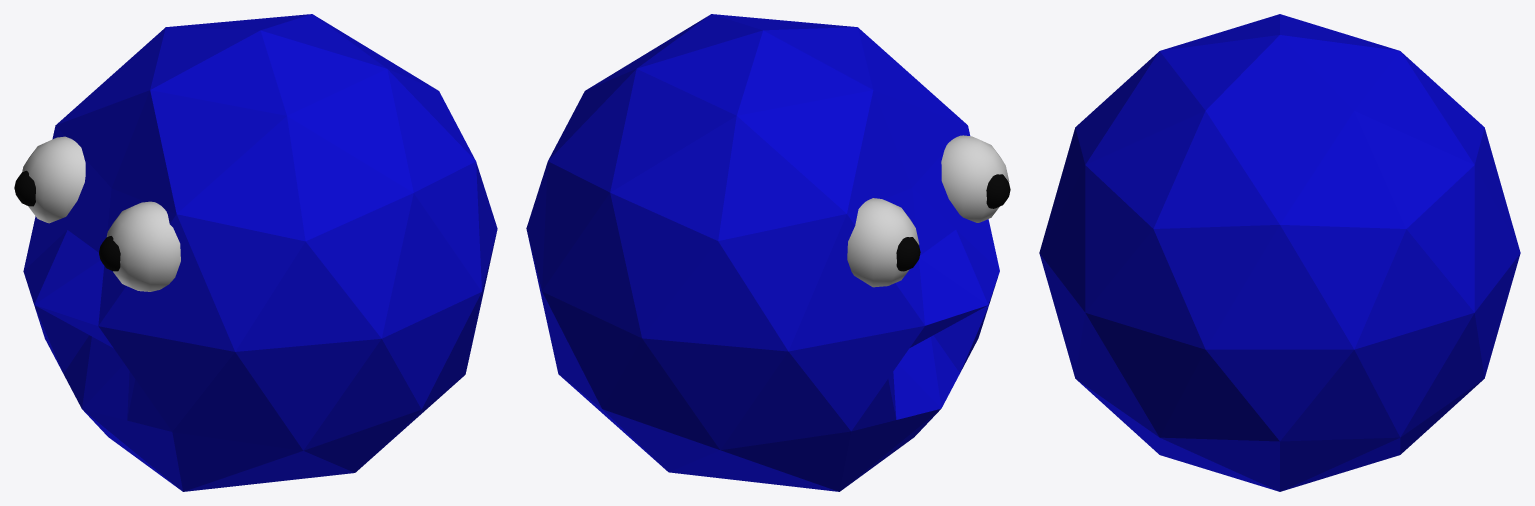
File: tiny.obj
3 renders of one model, left to right at view 1: azimuth 30°, elevation 25°; view 2: azimuth 150°, elevation 25°; view 3: azimuth 270°, elevation 25°, orthographic.
Parts seen in each view (by area): view 1: Icosphere, Sphere.002, Sphere, Sphere.003, Sphere.001; view 2: Icosphere, Sphere, Sphere.002, Sphere.003, Sphere.001; view 3: Icosphere.
Boxes of the visible parts, <box> form: Icosphere: <box>23,14,497,491</box>; Sphere.002: <box>106,201,180,291</box>; Sphere: <box>22,136,85,223</box>; Sphere.003: <box>99,236,120,271</box>; Sphere.001: <box>14,170,35,206</box>; Icosphere: <box>526,14,999,491</box>; Sphere: <box>847,198,919,287</box>; Sphere.002: <box>941,135,1009,222</box>; Sphere.003: <box>986,174,1010,208</box>; Sphere.001: <box>896,237,920,271</box>; Icosphere: <box>1039,14,1520,491</box>.
Bounding box in the file's own units: 2.03 × 2 × 2.
